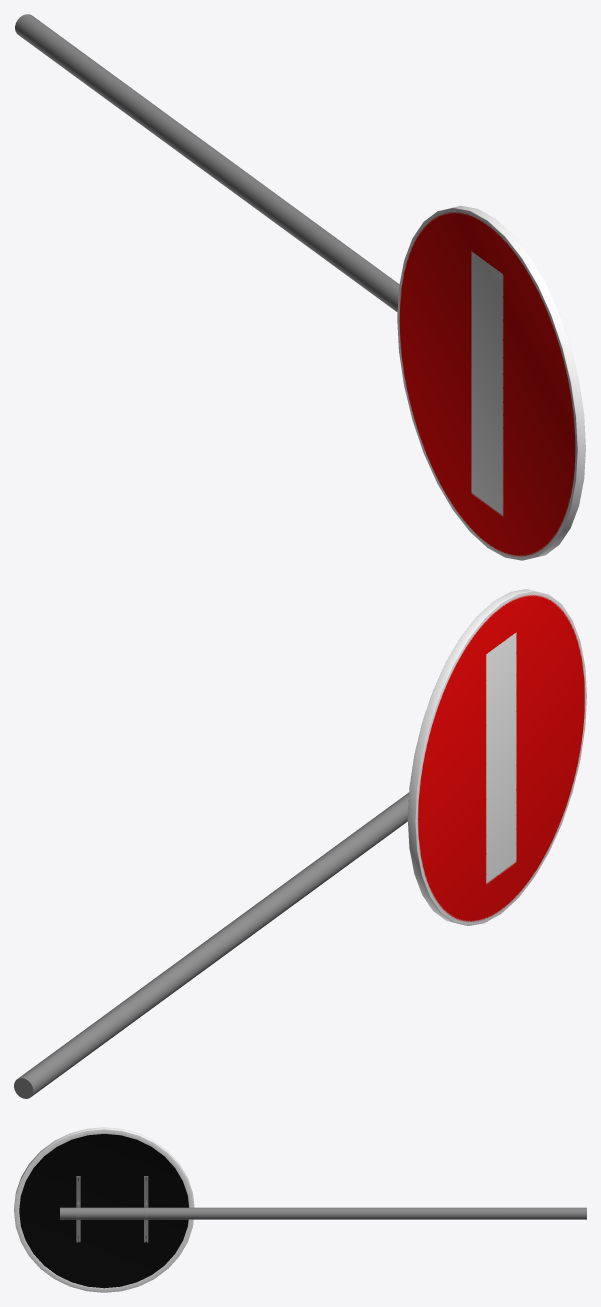
Rendered from no_entry_sign.obj.
3 views of the same model, one above another, from view 1: azimuth 30°, elevation 25°; view 2: azimuth 150°, elevation 25°; view 3: azimuth 270°, elevation 25° (orthographic). The views are drawn at different scales.
Visible parts, largest first — view 1: sign.004, rod.004; view 2: sign.004, rod.004; view 3: sign.004, rod.004.
Part boxes in pixels (x1,y1,x2,y2): sign.004: (397,205,585,560); rod.004: (15,14,399,312); sign.004: (407,589,586,925); rod.004: (14,792,408,1098); sign.004: (14,1127,194,1292); rod.004: (60,1176,586,1242).
Bounding box in the file's own units: 0.0774 × 0.7529 × 2.39.
3 materials, 1 textured.
